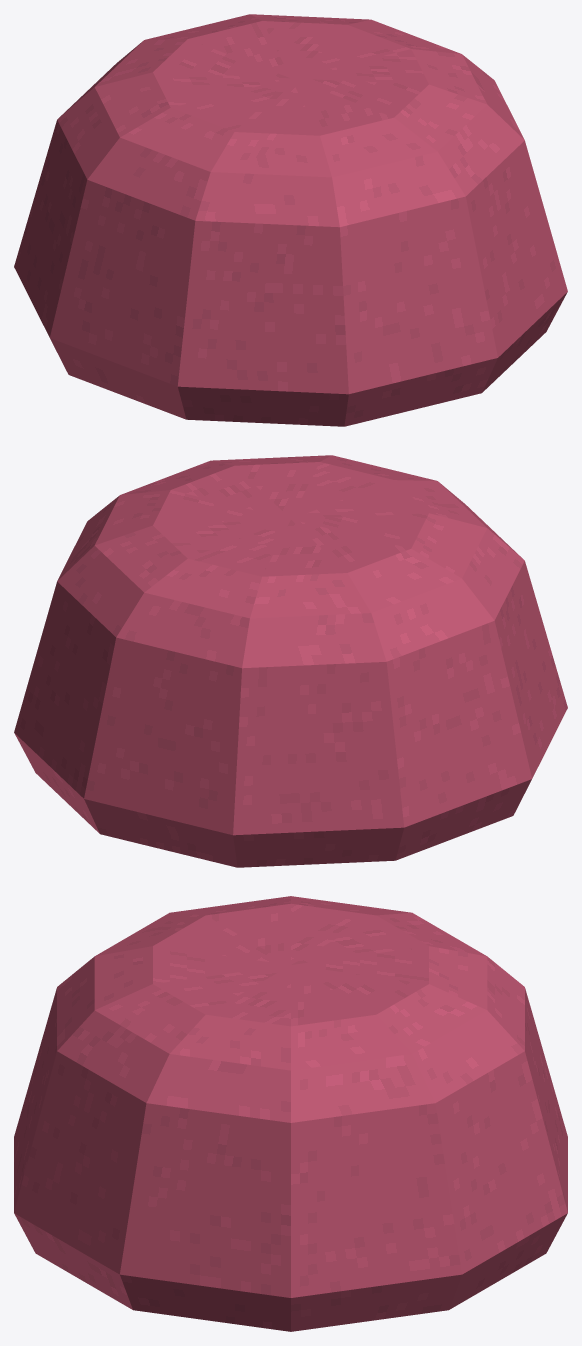
Rendered from gelatin_dessert_processed.glb.
The picture shows the model from 3 angles, top to bottom: view 1: azimuth 30°, elevation 25°; view 2: azimuth 150°, elevation 25°; view 3: azimuth 270°, elevation 25°; orthographic projection. The views are drawn at different scales.
Visible parts, largest first — view 1: block_moulded fruit gelatin; view 2: block_moulded fruit gelatin; view 3: block_moulded fruit gelatin.
Part boxes in pixels (bbox=[...]): block_moulded fruit gelatin: bbox=[14, 14, 567, 426]; block_moulded fruit gelatin: bbox=[14, 455, 567, 867]; block_moulded fruit gelatin: bbox=[14, 896, 567, 1331].
Size of the model in its own units: 0.1203 by 0.0577 by 0.1144.
1 material, 1 textured.
